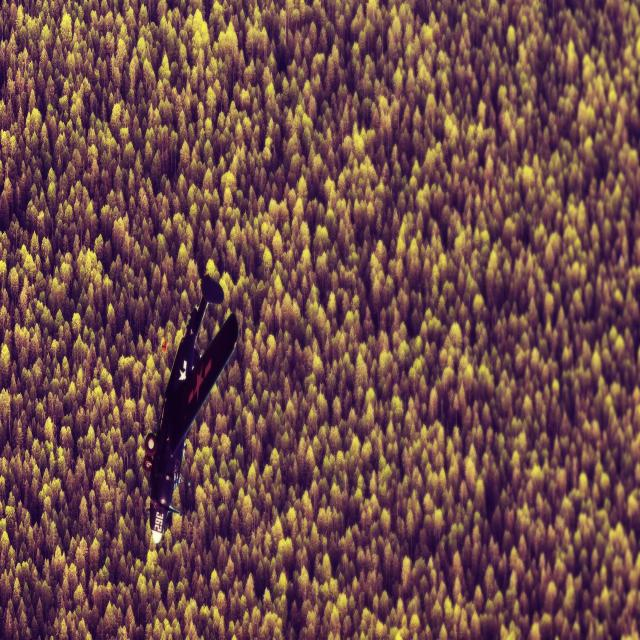airplane: (142, 273, 239, 545)
